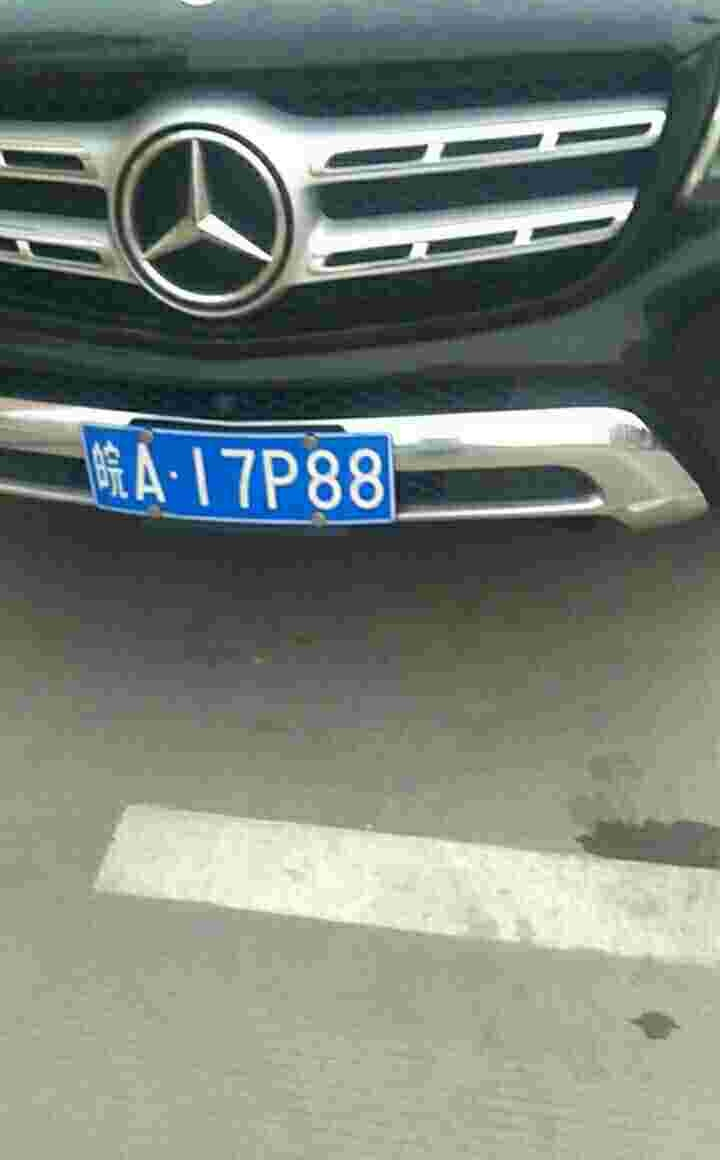license_plate: (87, 427, 409, 530)
